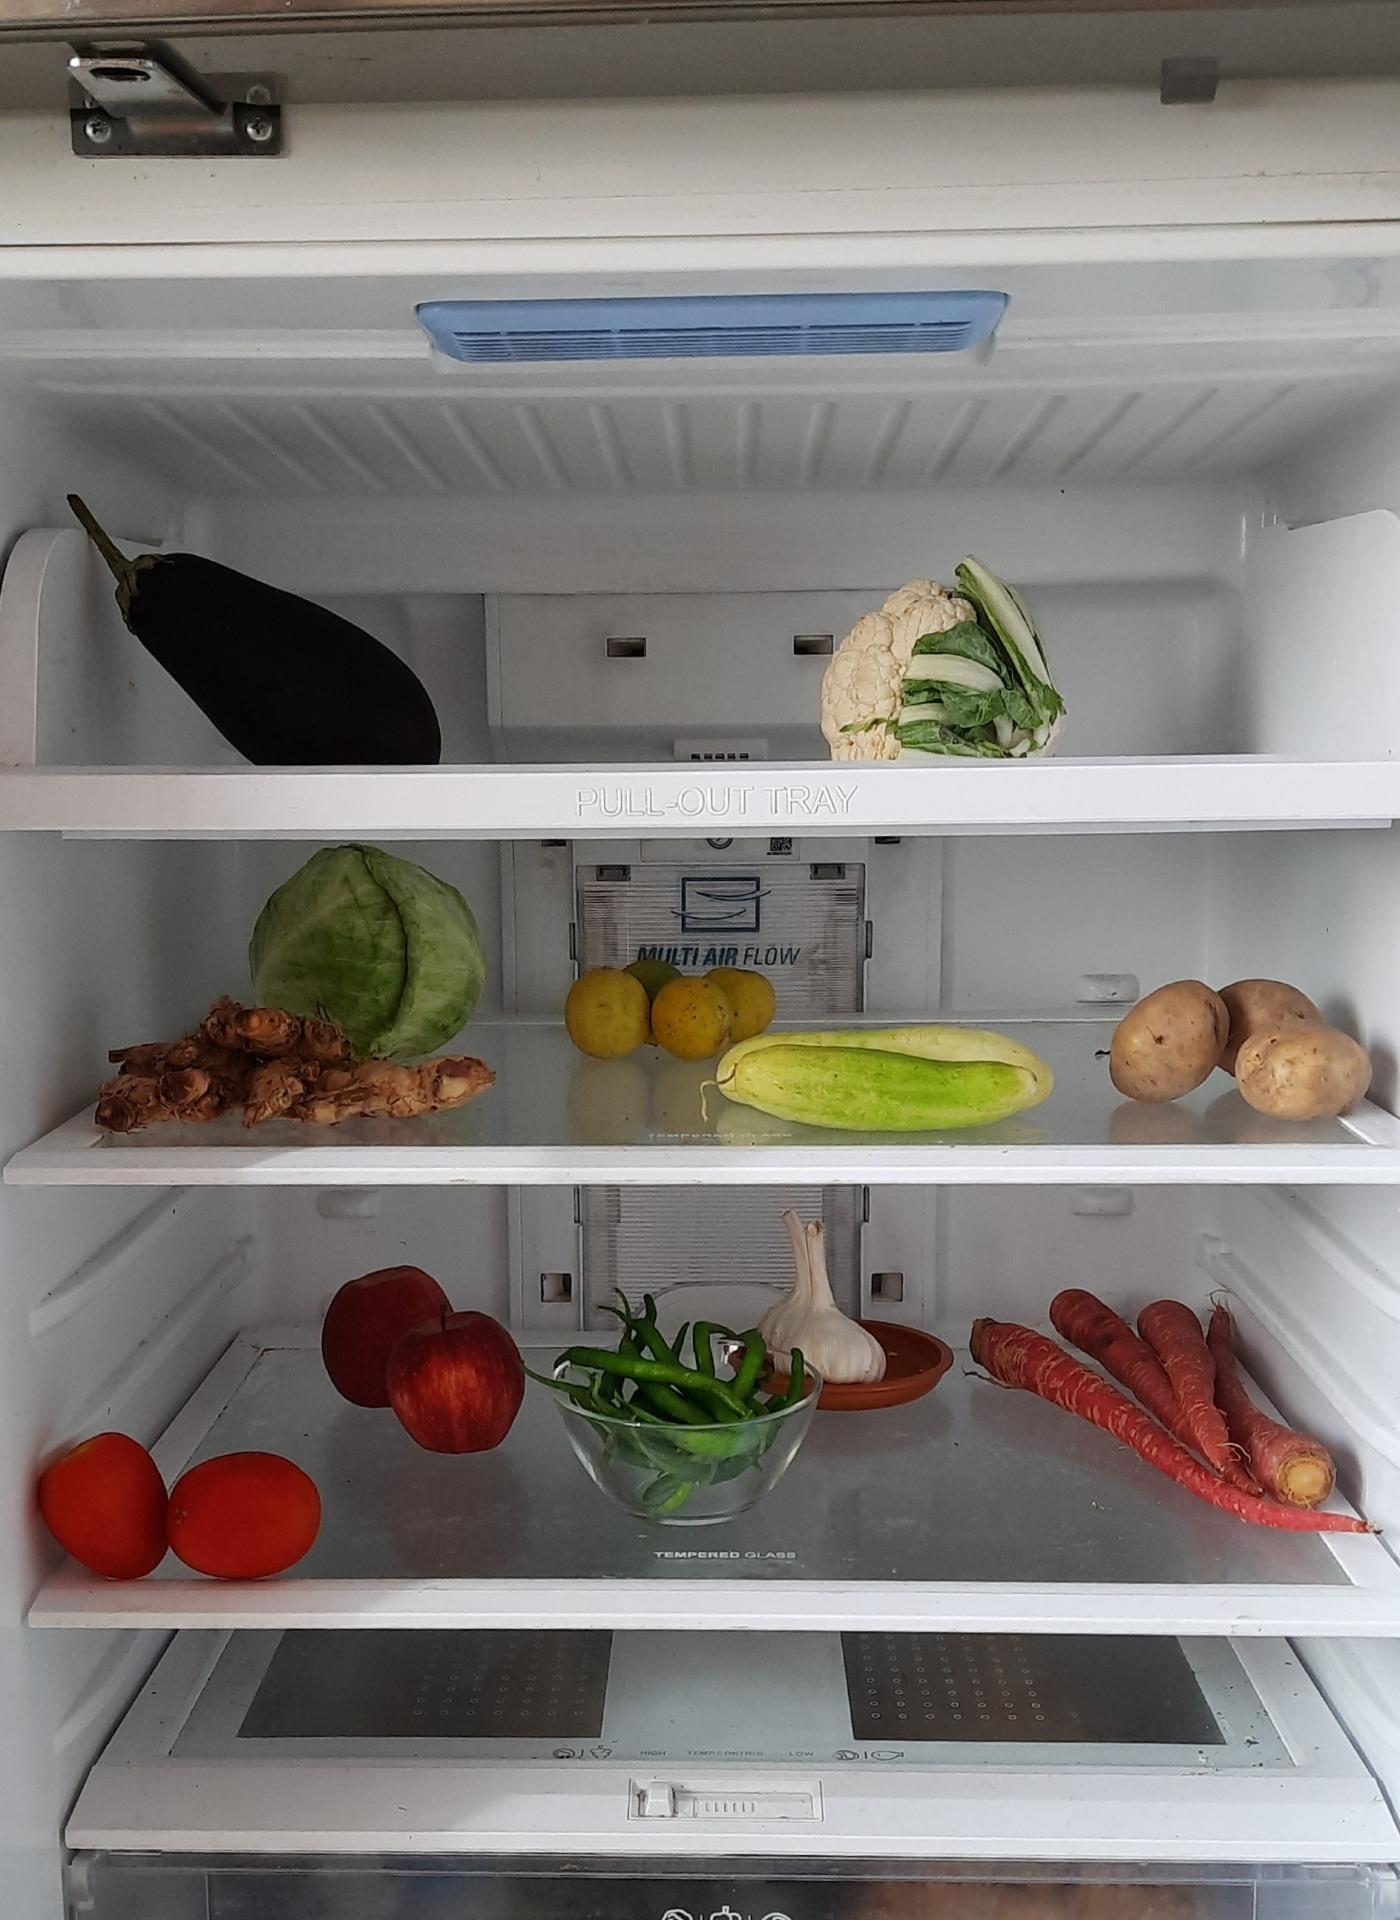apple: (327, 1261, 529, 1446)
brinjal: (67, 483, 450, 769)
cabbage: (247, 841, 491, 1052)
carrots: (972, 1295, 1372, 1534)
cauliflower: (820, 566, 1065, 760)
chillies: (555, 1289, 804, 1506)
cucumber: (723, 1023, 1059, 1133)
garlic: (757, 1204, 880, 1377)
ginger: (79, 984, 511, 1148)
lemon: (564, 963, 777, 1067)
potato: (1105, 975, 1385, 1118)
tomato: (36, 1433, 325, 1583)
